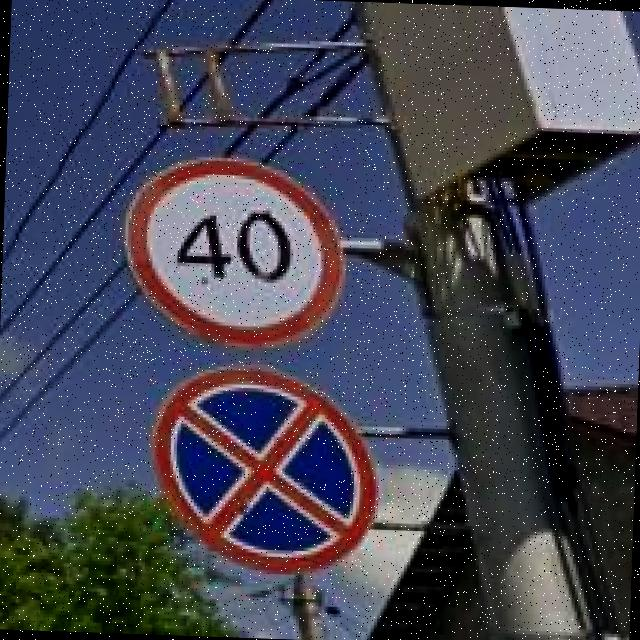Ograniczenie predkosci do 40: (121, 151, 346, 350)
Zakaz zatrzymywania sie: (148, 360, 382, 577)
